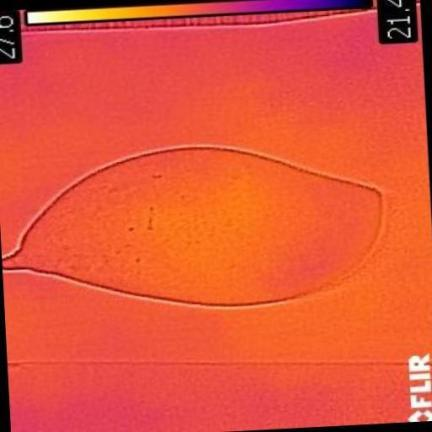mango: (2, 148, 383, 306)
